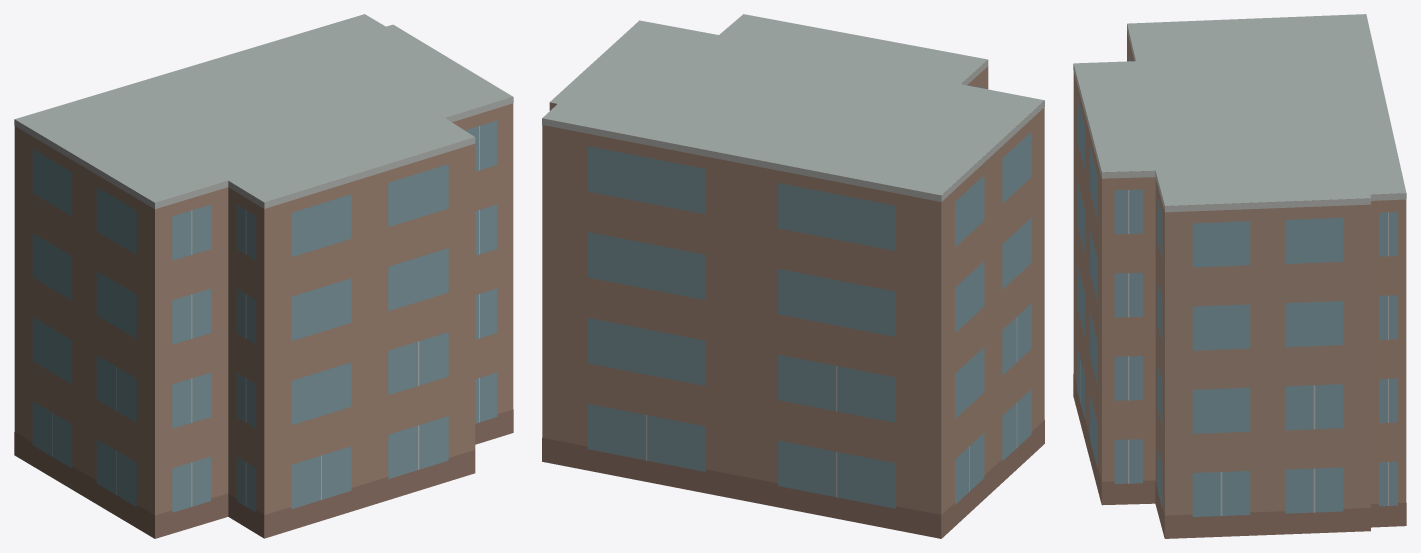
The model's file is survey-upis-32662161.glb.
3 renders of one model, left to right at view 1: azimuth 30°, elevation 25°; view 2: azimuth 150°, elevation 25°; view 3: azimuth 270°, elevation 25°, orthographic. The views are drawn at different scales.
Parts seen in each view (by area): view 1: survey-upis-32662161.tmp; view 2: survey-upis-32662161.tmp; view 3: survey-upis-32662161.tmp.
Boxes of the visible parts, x1=… form: survey-upis-32662161.tmp: x1=14, y1=14, x2=513, y2=538; survey-upis-32662161.tmp: x1=542, y1=14, x2=1044, y2=538; survey-upis-32662161.tmp: x1=1073, y1=14, x2=1406, y2=538.
Bounding box in the file's own units: 15.72 × 12.7 × 11.53.
